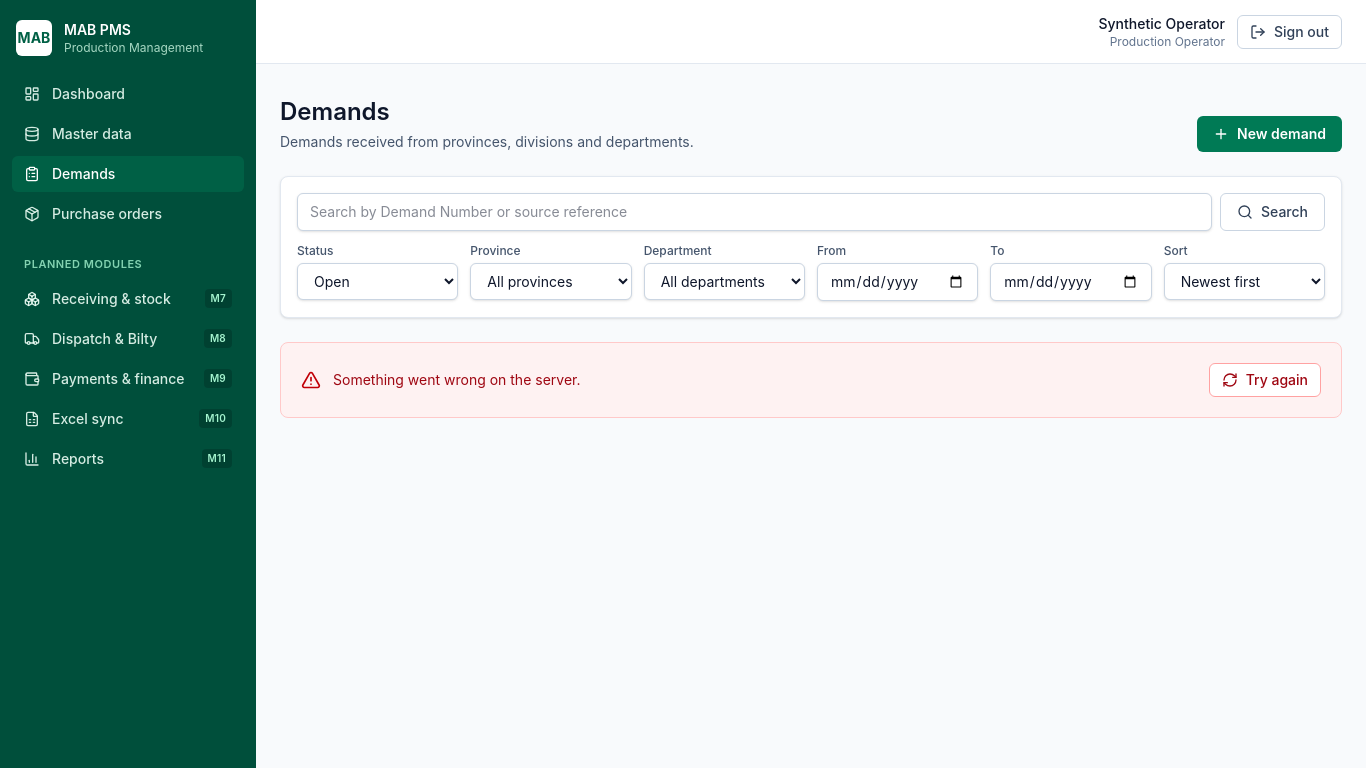
Test case: Demands list › shows an error with a retry that reloads the list
Expected: the message shows "Something went wrong on the server.", [333,371,580,388]
Click the button "Try again" at (1265, 380), box [1209,363,1321,397]
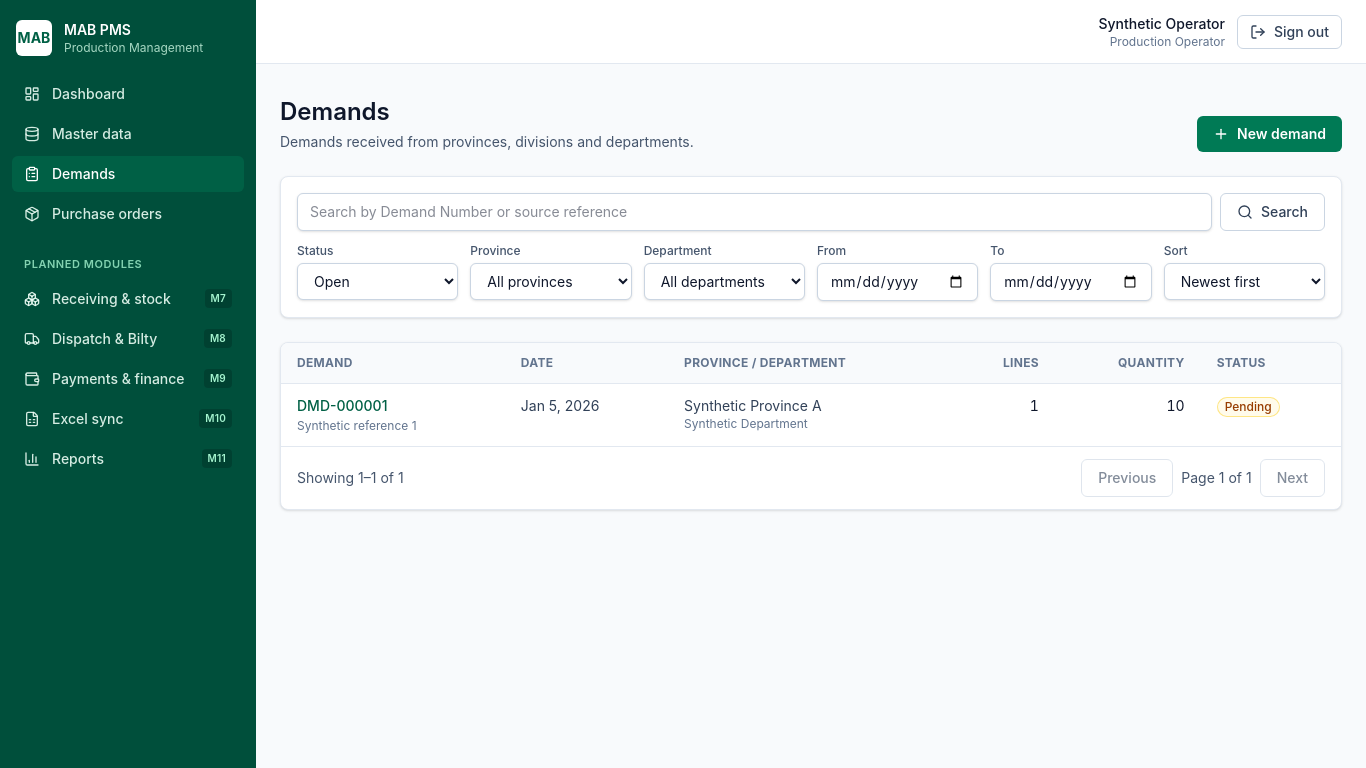
Expected: the link "DMD-000001" is shown, [297,397,388,414]
